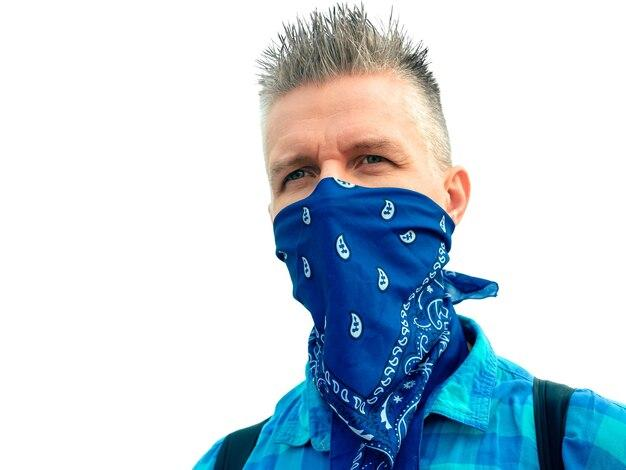scarf-kerchief: (263, 176, 460, 470)
